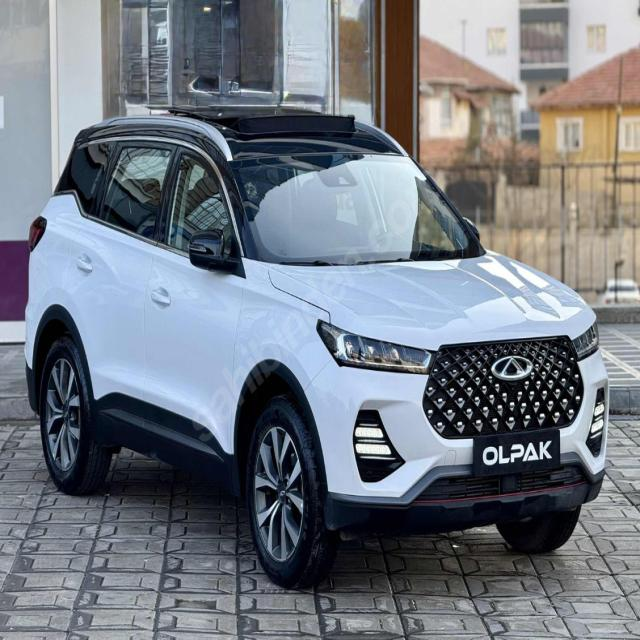cherry: (490, 352, 534, 384)
